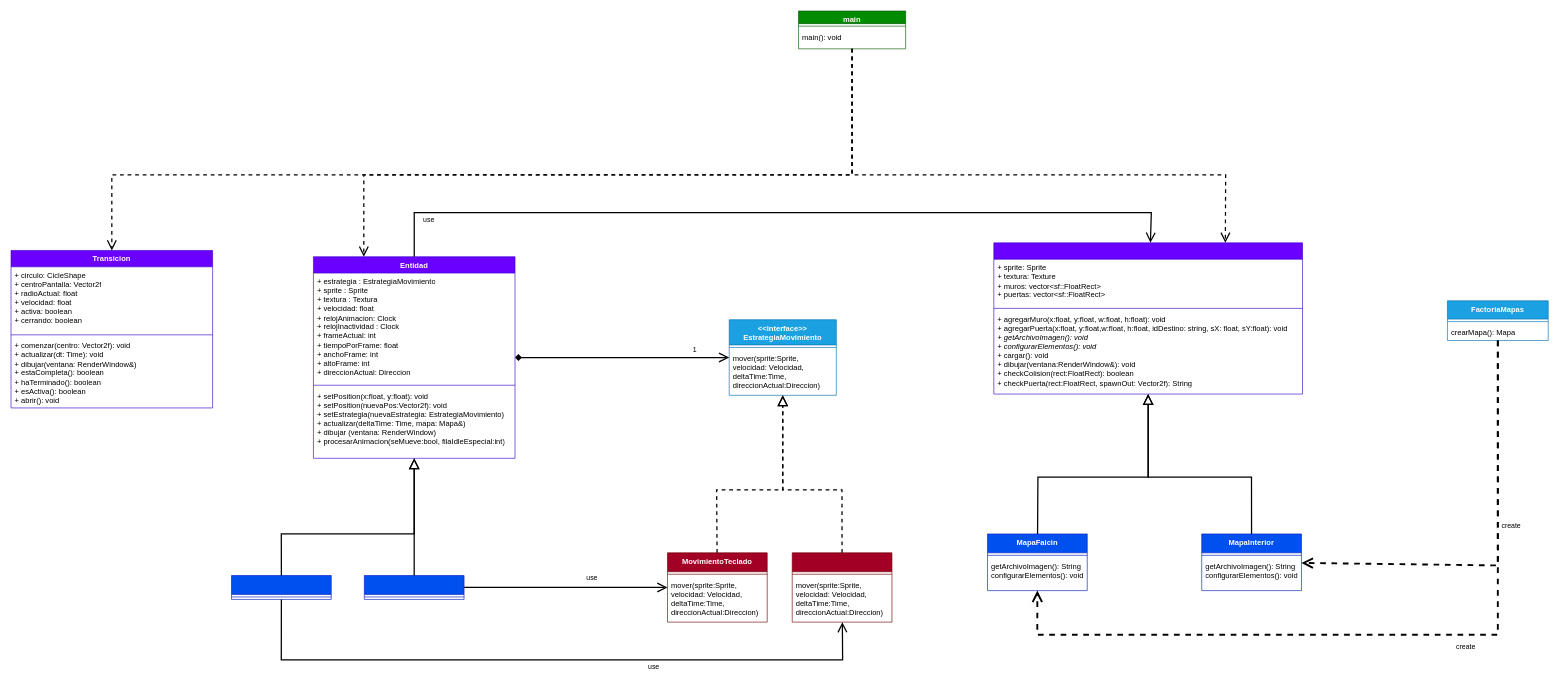
This 1559x682 diagram has some shape labels left out. Each missing label, with the box of its shape:
Anacleto: (231, 575, 331, 599)
Mapa: (993, 242, 1303, 394)
Mila: (364, 575, 464, 599)
MovimientoSeguir: (792, 552, 892, 622)
